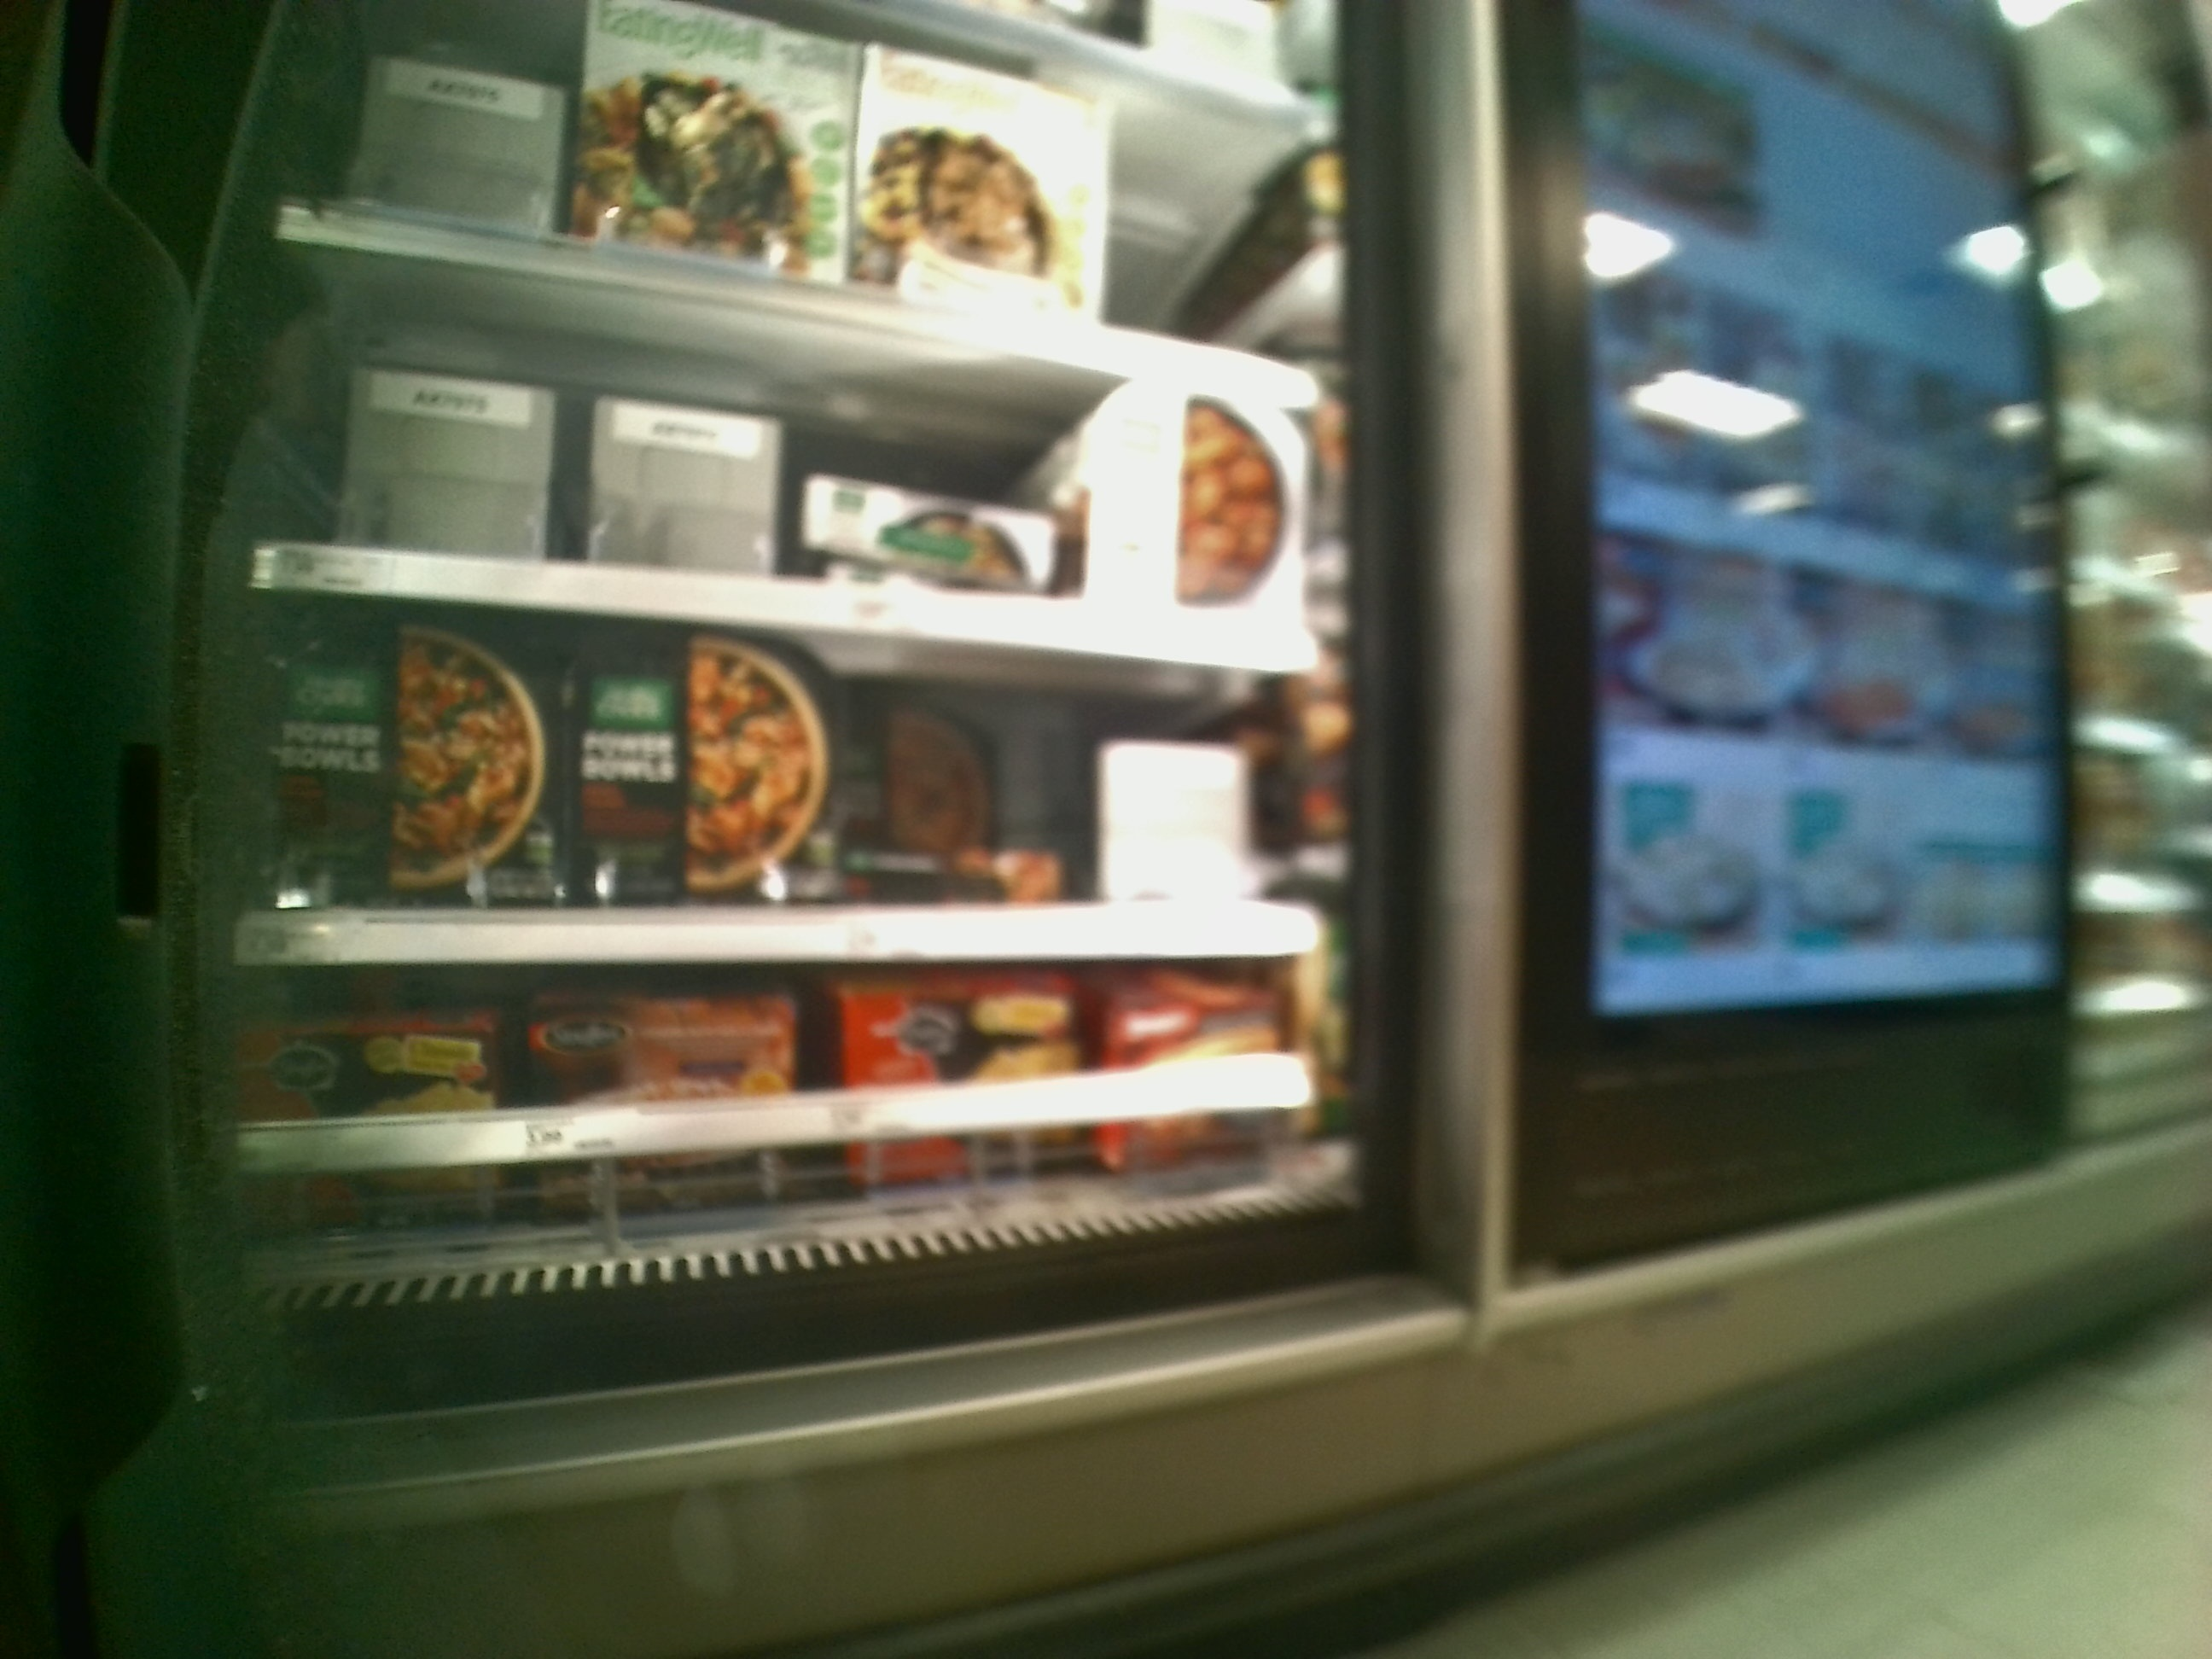shelf: (233, 953, 1353, 1406), (254, 580, 1332, 964)
